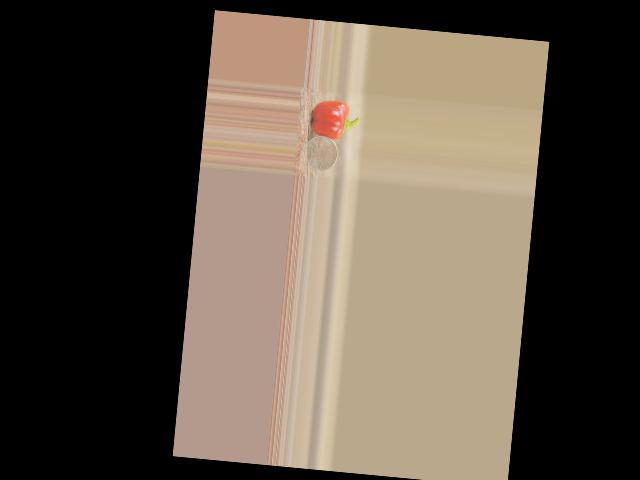bell_pepper: (308, 97, 361, 140)
